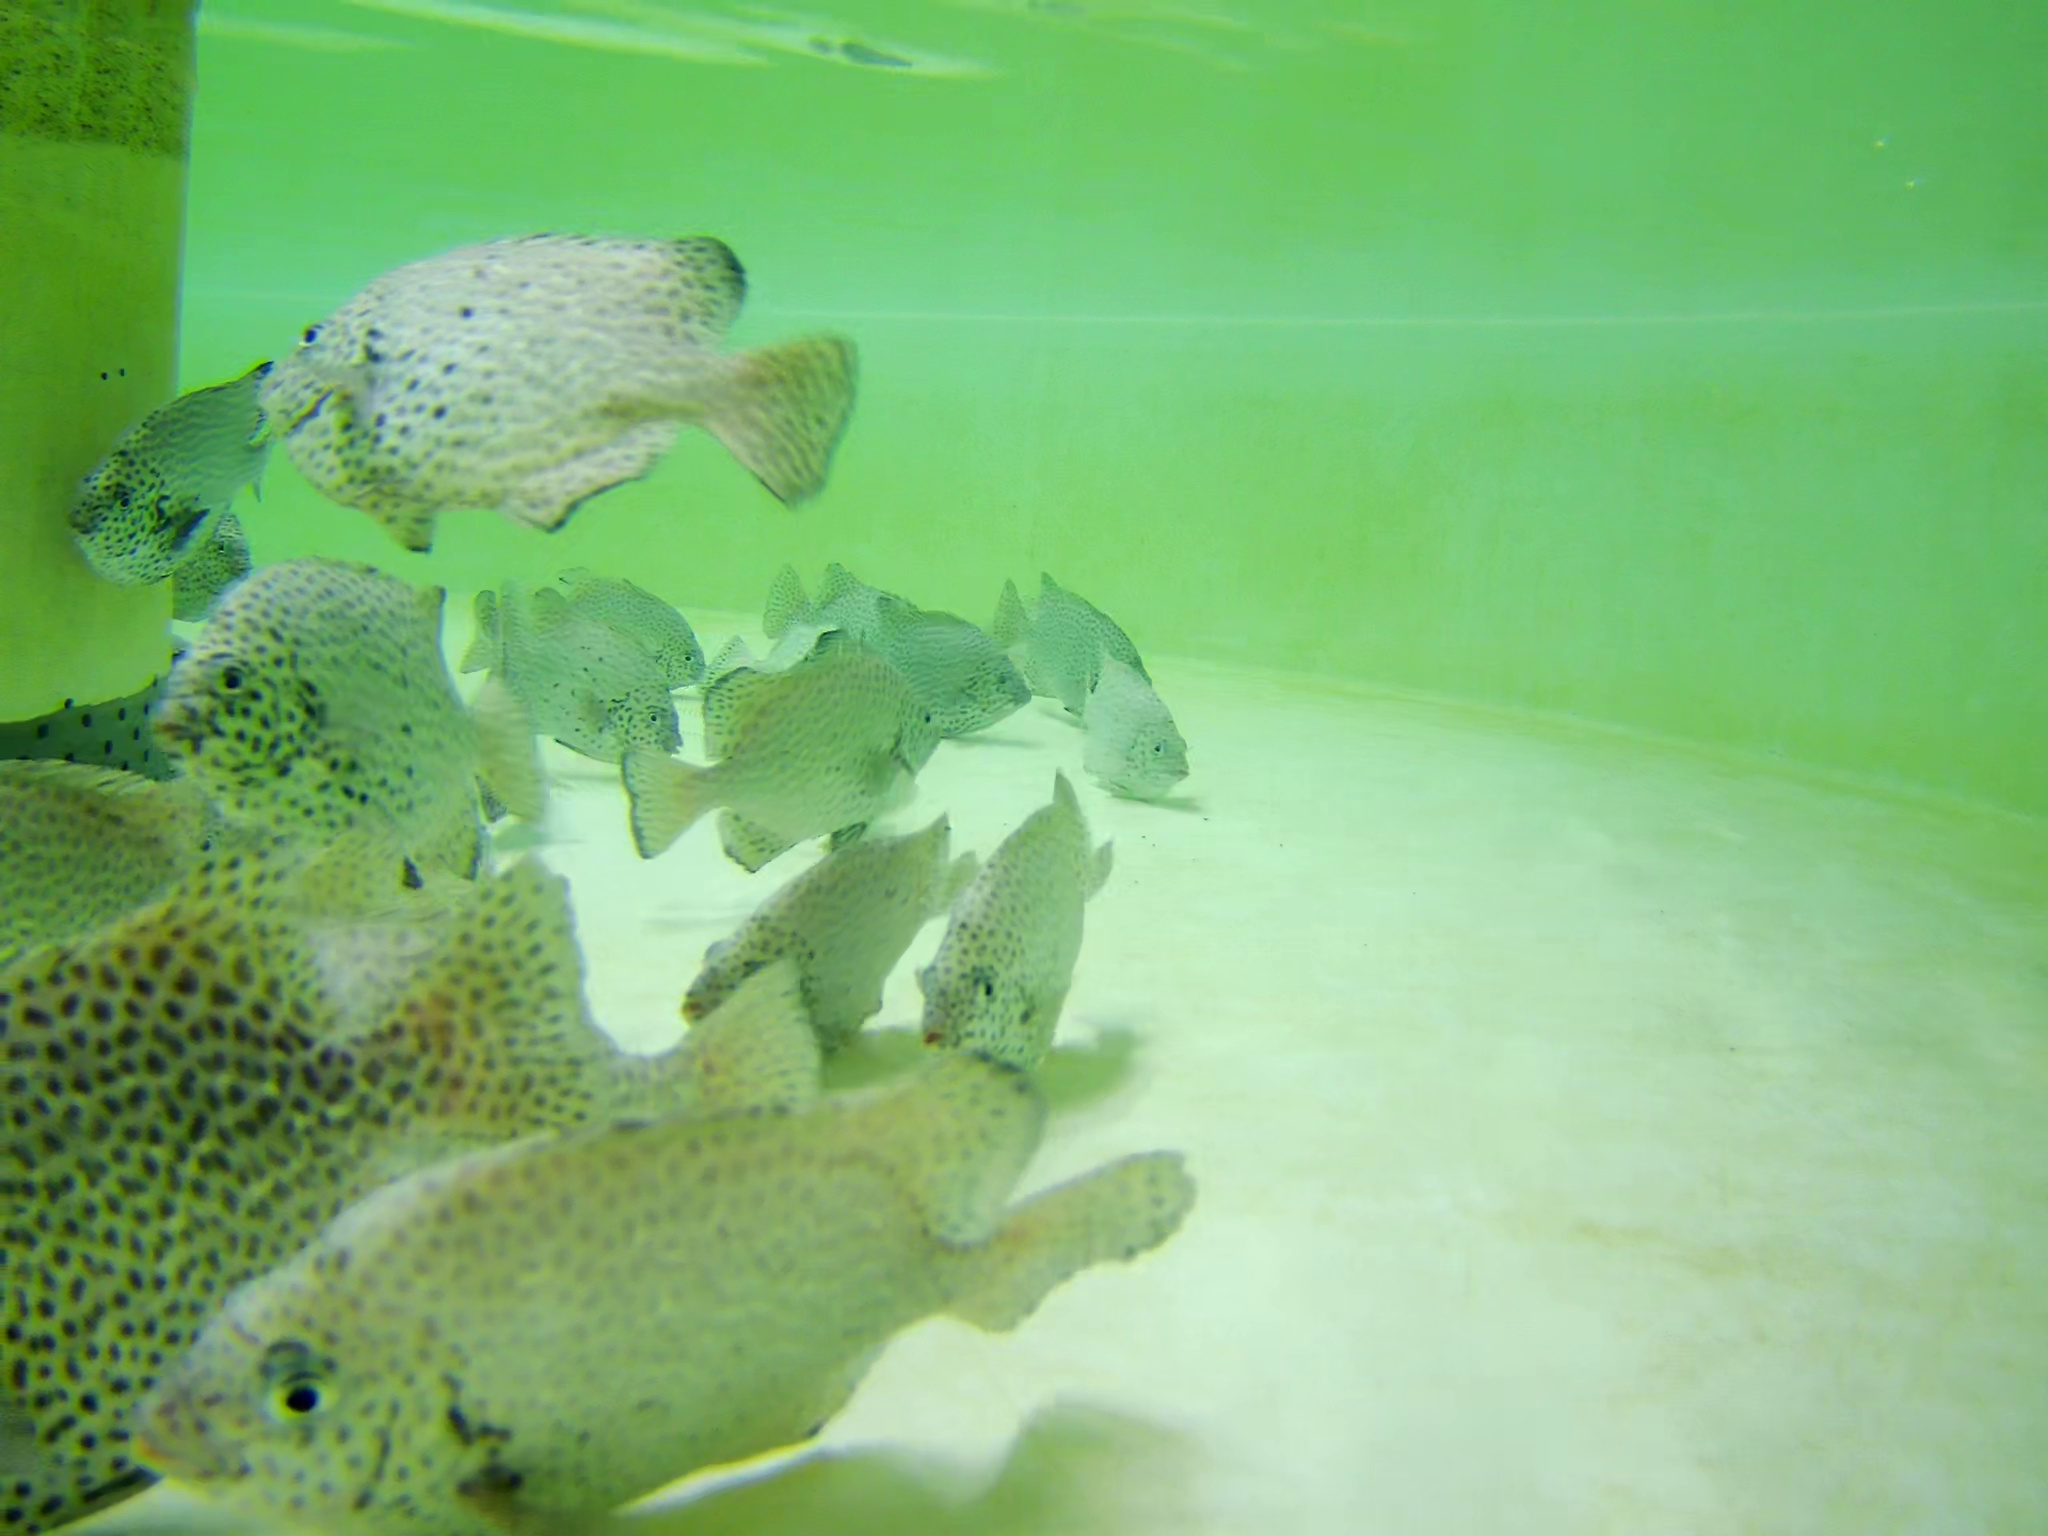fish: (2, 845, 821, 1536), (126, 1099, 1198, 1536), (261, 232, 864, 523), (161, 552, 558, 849), (3, 750, 477, 987), (664, 816, 974, 1060), (613, 636, 939, 860), (911, 786, 1114, 1071), (61, 355, 285, 586), (471, 579, 674, 758), (829, 589, 1035, 758), (998, 573, 1166, 713), (539, 565, 706, 703), (1071, 639, 1198, 810), (713, 621, 900, 737), (769, 560, 939, 663), (171, 490, 244, 618)
